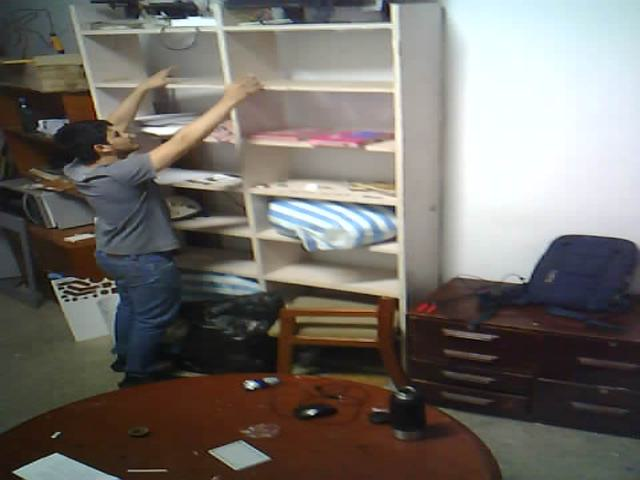person: (19, 42, 288, 415)
